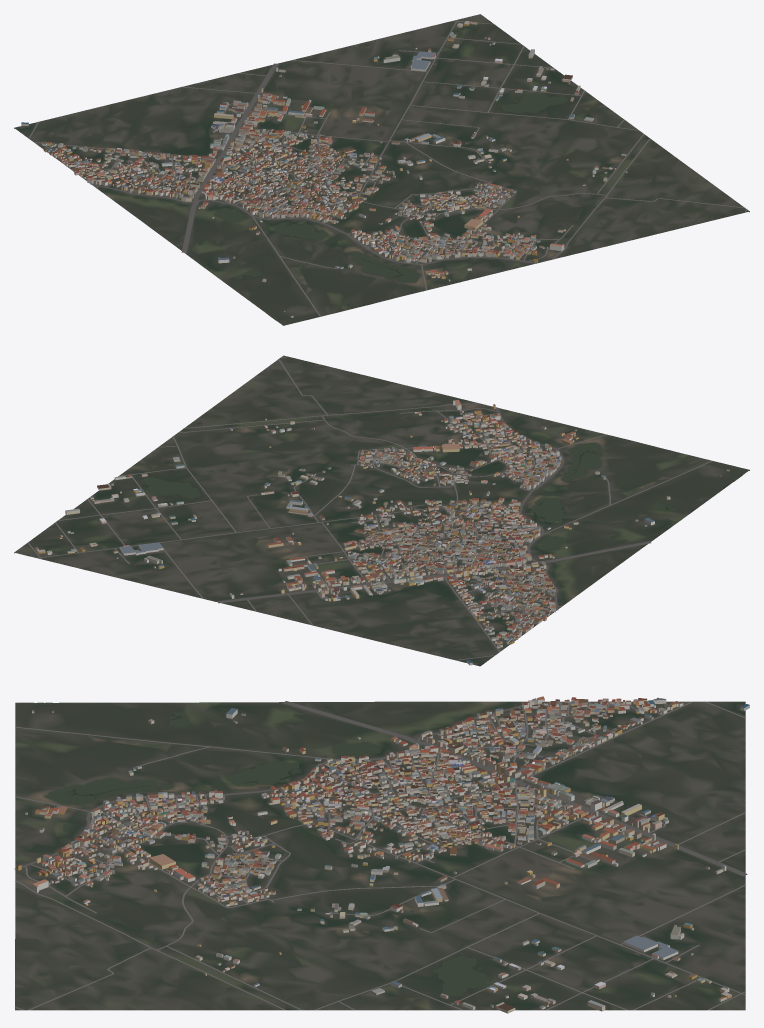
3 views of the same model, one above another, from view 1: azimuth 30°, elevation 25°; view 2: azimuth 150°, elevation 25°; view 3: azimuth 270°, elevation 25° (orthographic). The views are drawn at different scales.
Visible parts, largest first — view 1: ground, buildings, roads, water; view 2: ground, buildings, roads, water; view 3: ground, buildings, roads, water.
Boxes of the visible parts, x1,y1,x2,y2 form: ground: (14,14,749,325); buildings: (21,21,627,317); roads: (28,19,747,316); water: (214,94,568,319); ground: (14,355,749,666); buildings: (35,400,729,665); roads: (27,356,712,660); water: (141,434,740,550); ground: (15,701,745,1010); buildings: (16,696,749,1013); roads: (14,701,747,1010); water: (37,702,486,996).
Bounding box in the file's own units: 1422 × 22.62 × 1412.
